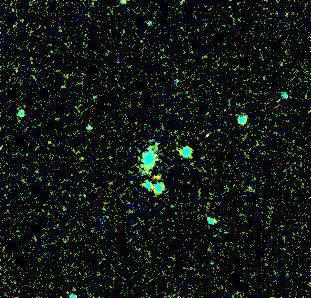star: (145, 165, 175, 195)
